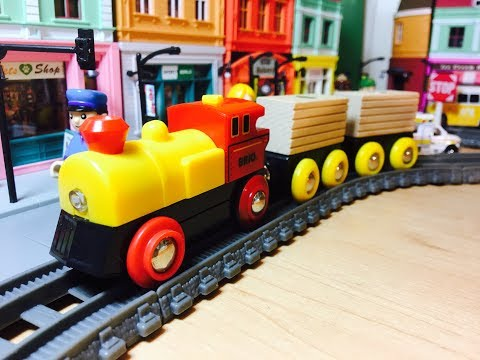brio: (55, 90, 270, 285)
